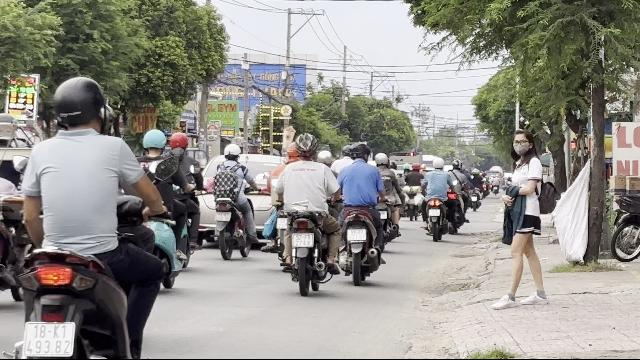helmet: (49, 75, 109, 132), (141, 129, 167, 155), (294, 132, 318, 160), (168, 132, 188, 152), (352, 142, 371, 162), (223, 142, 241, 160), (341, 143, 352, 157)
licenseplate: (22, 322, 74, 354), (292, 233, 314, 247), (347, 229, 365, 240), (215, 211, 231, 221)
motorcyclist: (1, 75, 172, 356), (267, 130, 339, 294), (135, 128, 201, 290), (333, 141, 387, 284), (1, 107, 30, 307), (212, 142, 256, 258), (1, 131, 23, 309), (0, 138, 14, 307)
